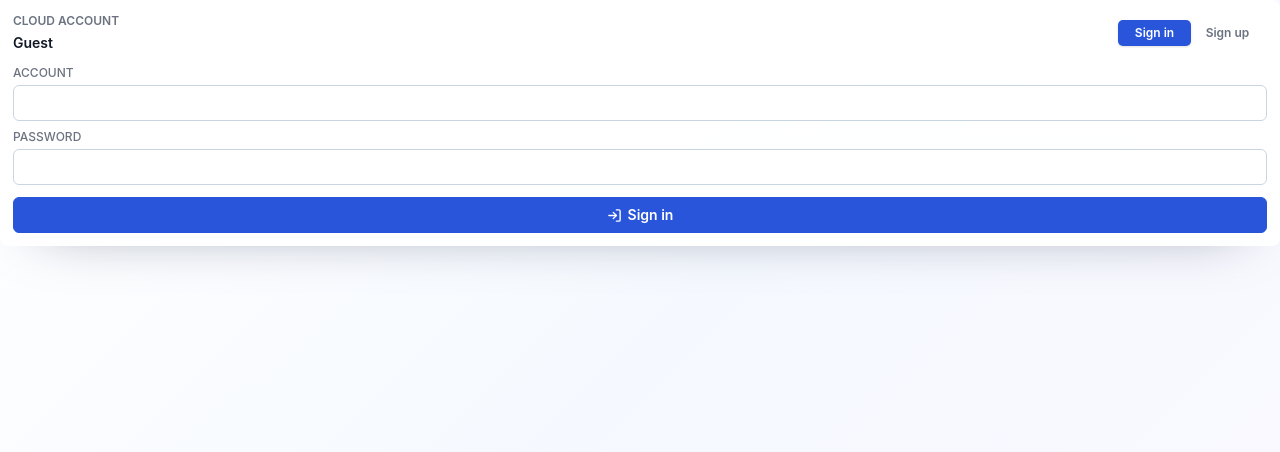
Test: AuthPanel › rejects invalid sign-up fields before requesting a code
Click the button "Sign up": (1228, 33) [1191,20,1264,46]
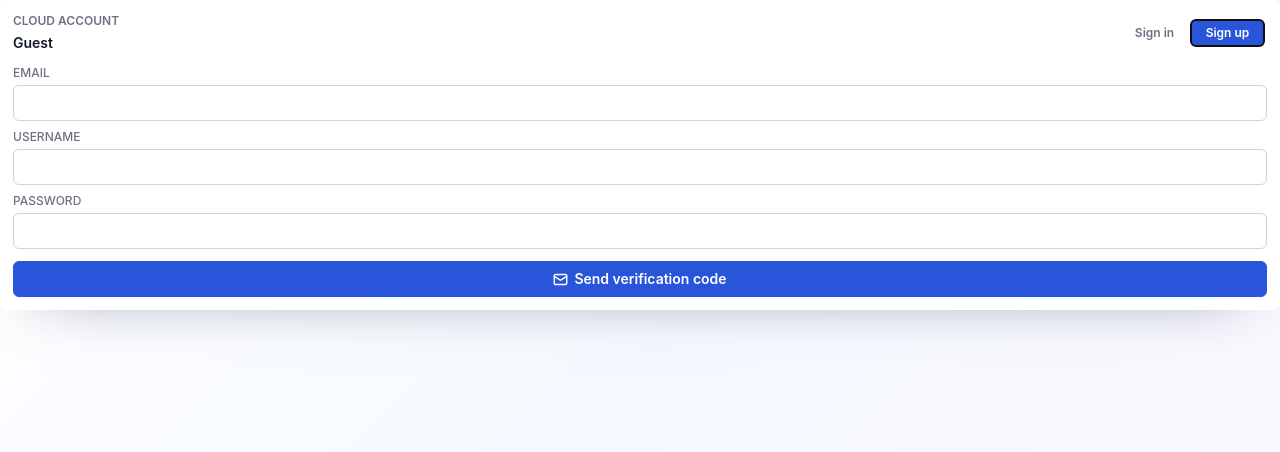
In the field labelled "Email": (640, 103) [13,85,1267,121], type "bad-email"
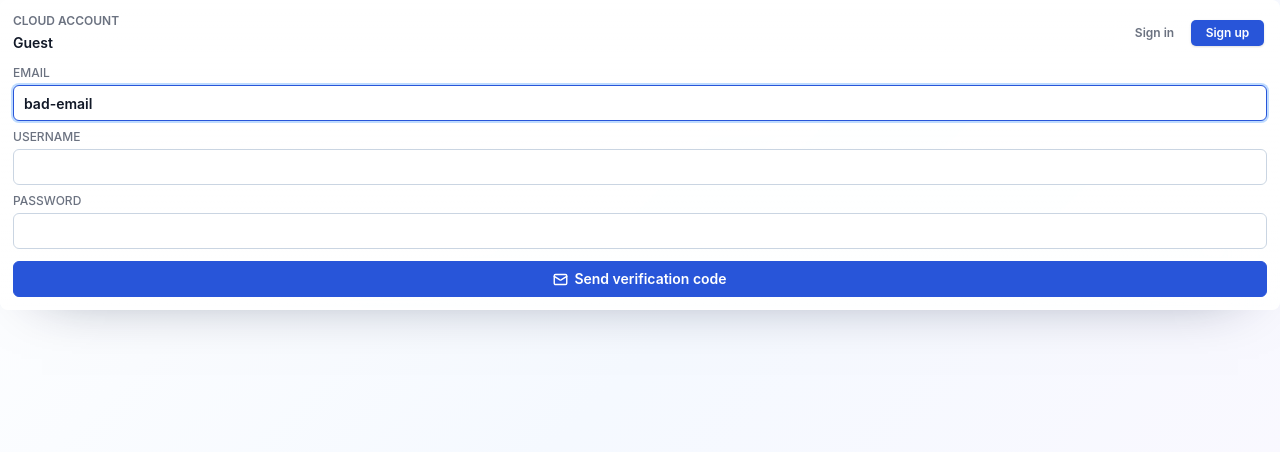
In the field labelled "Username": (640, 167) [13,149,1267,185], type "12345"
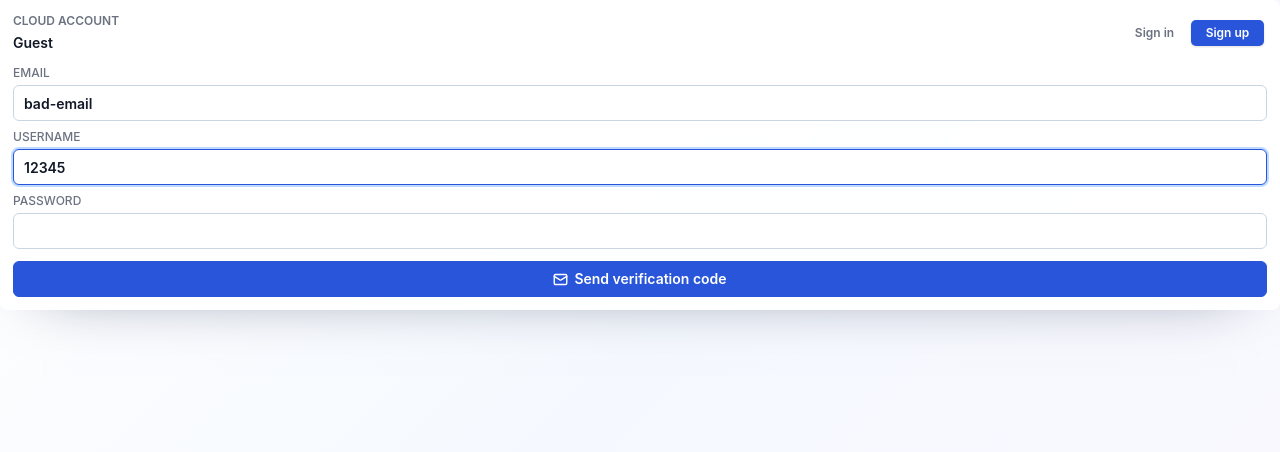
In the password field labelled "Password": (640, 231) [13,213,1267,249], type "short1"
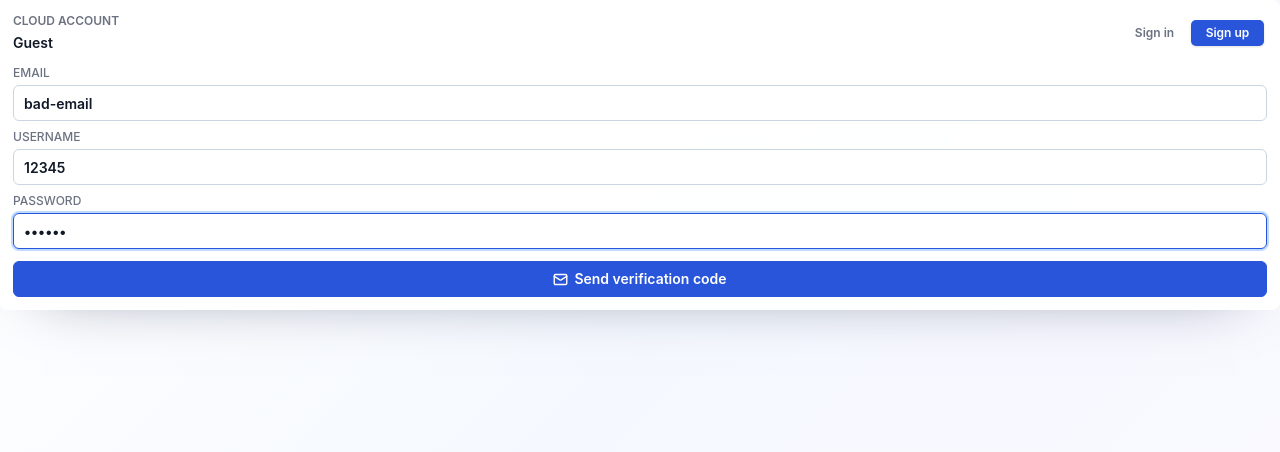
Click the button "Send verification code": (640, 279) [13,261,1267,297]
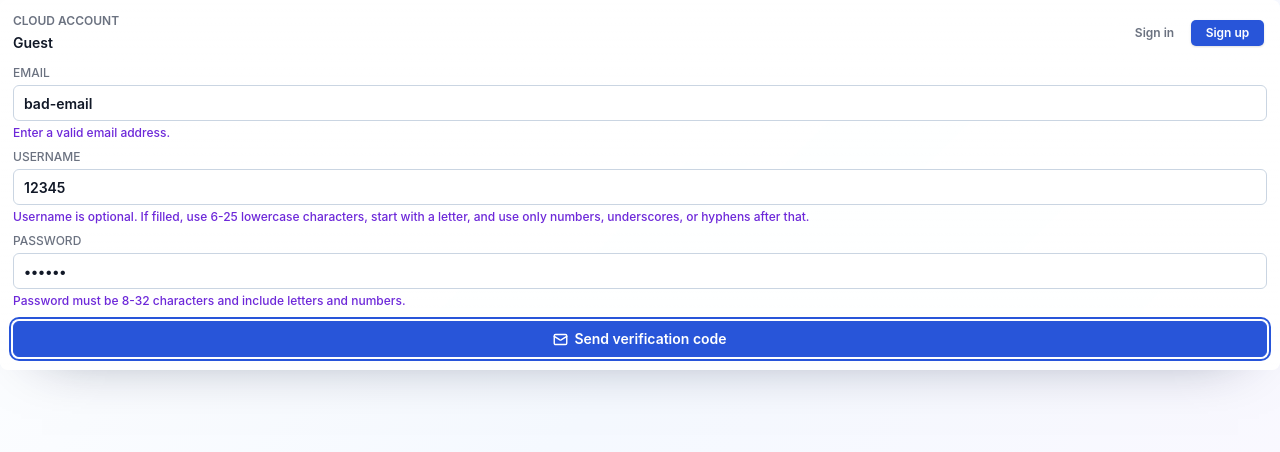
Expected: the text "Enter a valid email address." is shown, [13,125,170,140]
Expected: the text "Username is optional. If filled, use 6-25 lowercase characters, start with a letter, and use only numbers, underscores, " is shown, [13,209,809,224]
Expected: the text "Password must be 8-32 characters and include letters and numbers." is shown, [13,293,406,308]
